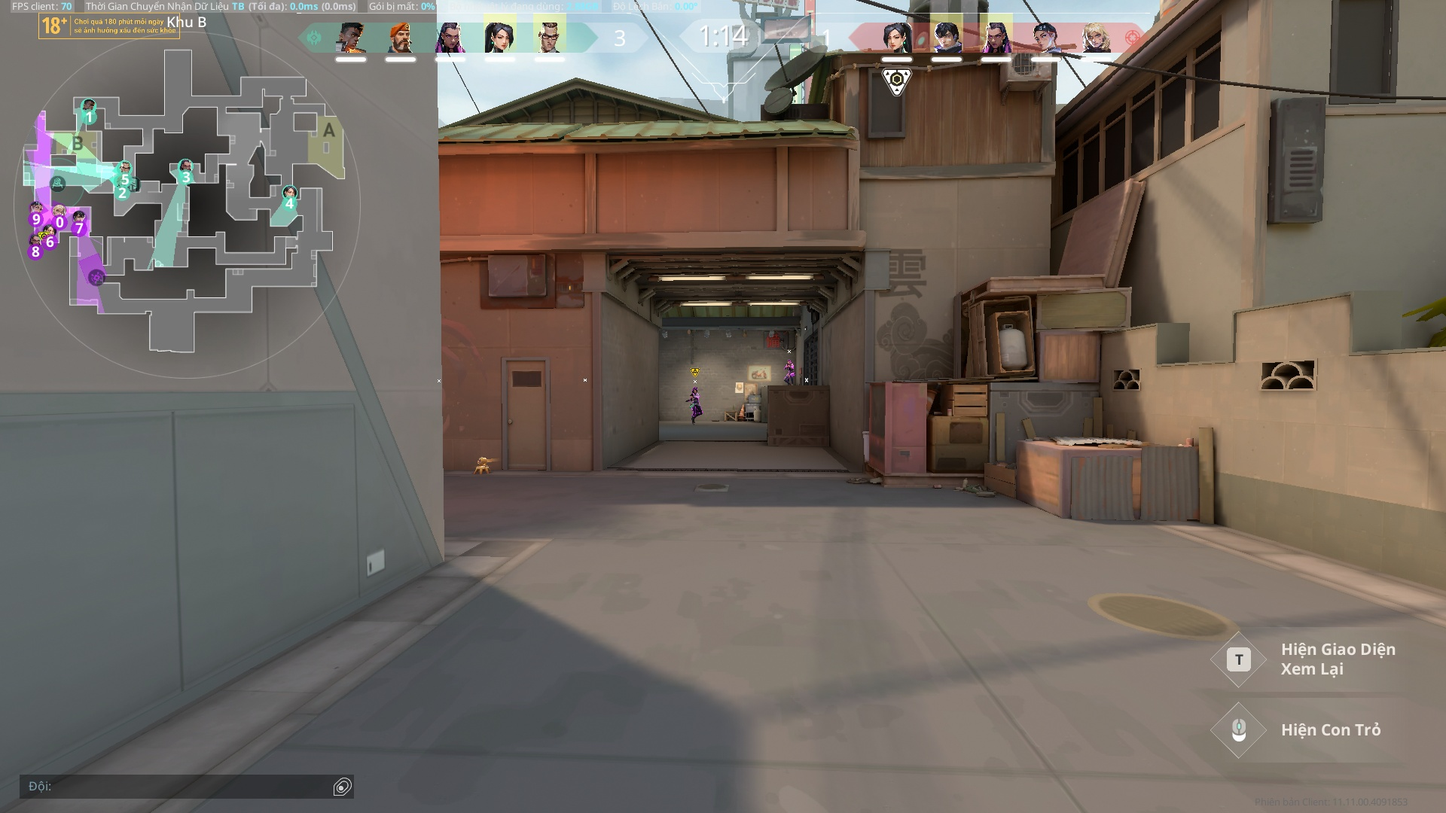body: (689, 392, 700, 406), (784, 364, 795, 374)
head: (691, 386, 697, 392), (786, 358, 791, 364)
